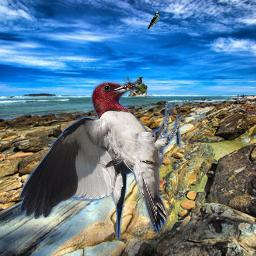Swallow: (147, 11, 159, 30)
Woodpecker: (19, 77, 182, 240)
